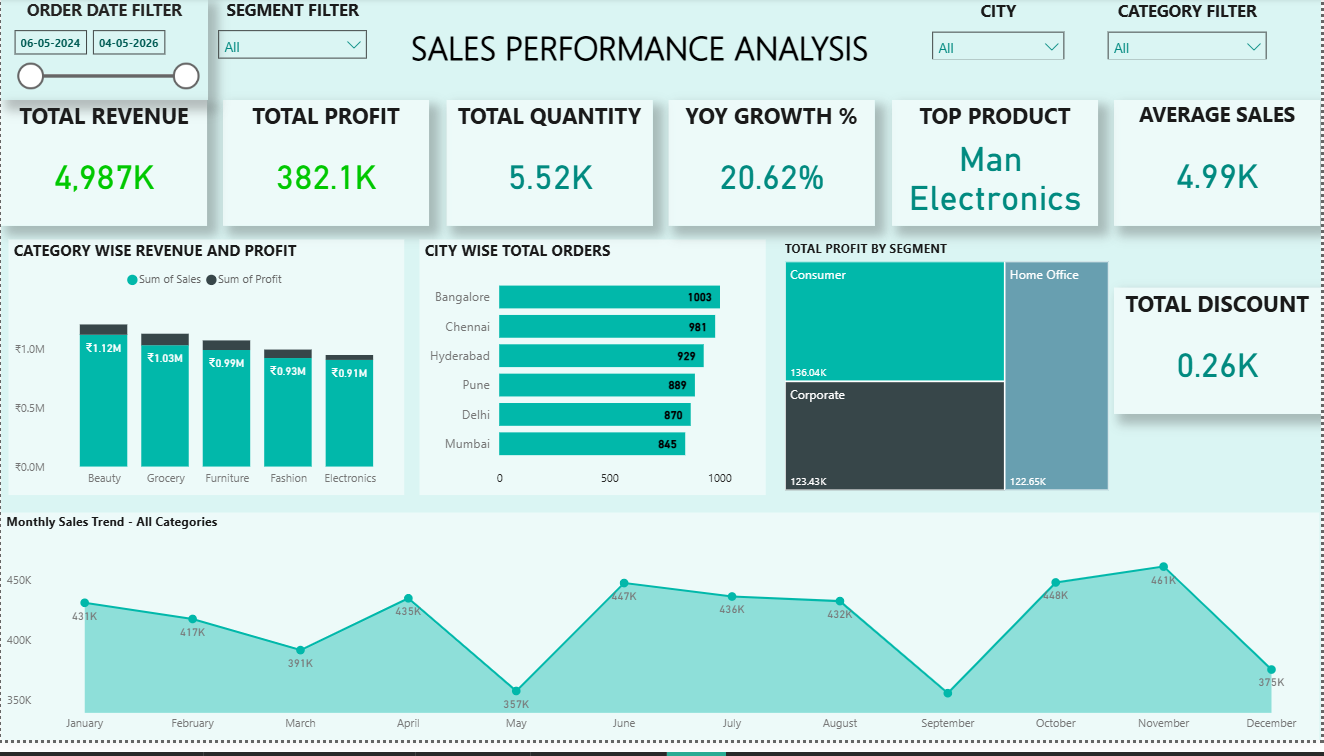

The dashboard page shown, as its layout file describes it:
{"tool":"powerbi","page":{"name":"Sales Dashboards","canvas":[1280,720],"ordinal":0},"visuals":[{"type":"textbox","box":[364.4,19.9,511.9,58],"z":0},{"type":"card","title":"TOTAL REVENUE","fields":{"Values":["Company_Sales_Data.Total_Revenue"]},"box":[0,99.4,200,122],"z":1000},{"type":"card","title":"TOTAL DISCOUNT","fields":{"Values":["Company_Sales_Data.TOTAL_DISCOUNT"]},"box":[1080,281.6,200.4,122.6],"z":2000},{"type":"card","title":"TOTAL PROFIT","fields":{"Values":["Company_Sales_Data.Total_Profit"]},"box":[216,99.4,200,122],"z":3000},{"type":"columnChart","title":"CATEGORY WISE REVENUE AND PROFIT","fields":{"Category":["Company_Sales_Data.Category"],"Y":["Sum(Company_Sales_Data.Sales)","Sum(Company_Sales_Data.Profit)"]},"box":[8,234,384,248],"z":4000},{"type":"card","title":"TOTAL QUANTITY","fields":{"Values":["Company_Sales_Data.Total_Quantity"]},"box":[432,99.4,200,122],"z":5000},{"type":"clusteredBarChart","title":"CITY WISE TOTAL ORDERS","fields":{"Category":["Company_Sales_Data.City"],"Y":["Company_Sales_Data.Total_Quantity"]},"box":[406,234,336,248],"z":6000},{"type":"card","title":"YOY GROWTH %","fields":{"Values":["Company_Sales_Data.YOY_Growth"]},"box":[648,99.4,200,122],"z":7000},{"type":"treemap","title":"TOTAL PROFIT BY SEGMENT","fields":{"Group":["Company_Sales_Data.Segment"],"Values":["Company_Sales_Data.Total_Profit"]},"box":[756,234,324,248],"z":8000},{"type":"card","title":"TOP PRODUCT","fields":{"Values":["Company_Sales_Data.Top_product"]},"box":[864,99.4,200,122],"z":9000},{"type":"stackedAreaChart","fields":{"Y":["Company_Sales_Data.Total_Revenue"],"Category":["Calendar.Month Name"]},"box":[0,498.9,1279.4,221.1],"z":10000},{"type":"card","title":"AVERAGE SALES","fields":{"Values":["Company_Sales_Data.AOV"]},"box":[1080,99.4,200,122],"z":11000},{"type":"slicer","title":"SEGMENT FILTER","fields":{"Values":["Company_Sales_Data.Segment"]},"box":[200.4,0,164,77.9],"z":12000},{"type":"slicer","title":"ORDER DATE FILTER","fields":{"Values":["Company_Sales_Data.Order_Date"]},"box":[0,0,200.4,99.4],"z":13000},{"type":"slicer","title":"CITY","fields":{"Values":["Company_Sales_Data.City"]},"box":[894,2,148,58],"z":14000},{"type":"slicer","title":"CATEGORY FILTER","fields":{"Values":["Company_Sales_Data.Category"]},"box":[1064,2,174,58],"z":15000}]}

Visuals, with their boxes in screenshot pixels (x1, y1, x2, y2), scaled from the page's 1280x720 canvas onto the 1324x756 screenshot:
textbox: x1=377, y1=21, x2=906, y2=82
"TOTAL REVENUE" card: x1=0, y1=104, x2=207, y2=232
"TOTAL DISCOUNT" card: x1=1117, y1=296, x2=1323, y2=424
"TOTAL PROFIT" card: x1=223, y1=104, x2=430, y2=232
"CATEGORY WISE REVENUE AND PROFIT" columnChart: x1=8, y1=246, x2=405, y2=506
"TOTAL QUANTITY" card: x1=447, y1=104, x2=654, y2=232
"CITY WISE TOTAL ORDERS" clusteredBarChart: x1=420, y1=246, x2=768, y2=506
"YOY GROWTH %" card: x1=670, y1=104, x2=877, y2=232
"TOTAL PROFIT BY SEGMENT" treemap: x1=782, y1=246, x2=1117, y2=506
"TOP PRODUCT" card: x1=894, y1=104, x2=1101, y2=232
stackedAreaChart - Company_Sales_Data.Total_Revenue x Calendar.Month Name: x1=0, y1=524, x2=1323, y2=755
"AVERAGE SALES" card: x1=1117, y1=104, x2=1323, y2=232
"SEGMENT FILTER" slicer: x1=207, y1=0, x2=377, y2=82
"ORDER DATE FILTER" slicer: x1=0, y1=0, x2=207, y2=104
"CITY" slicer: x1=925, y1=2, x2=1078, y2=63
"CATEGORY FILTER" slicer: x1=1101, y1=2, x2=1281, y2=63
